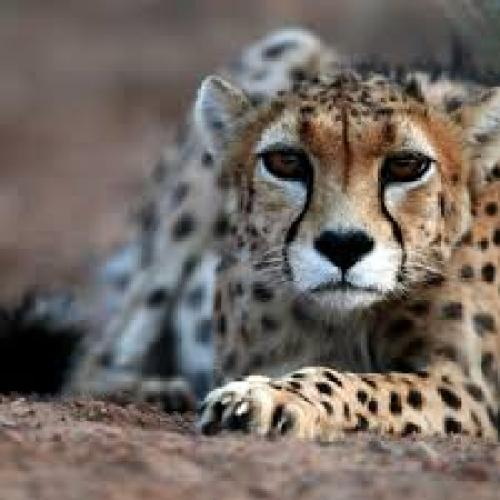cheetah-endangered: (0, 27, 500, 444)
